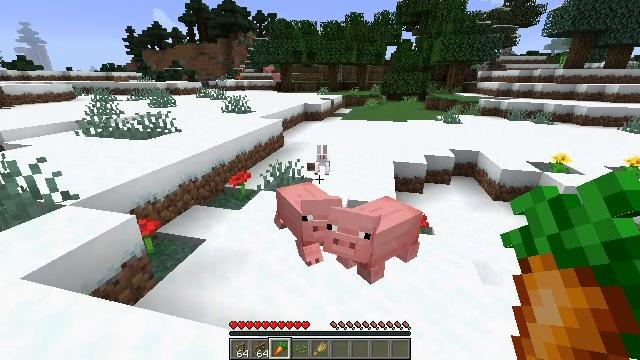pig: (329, 199, 427, 276), (279, 182, 342, 264)
